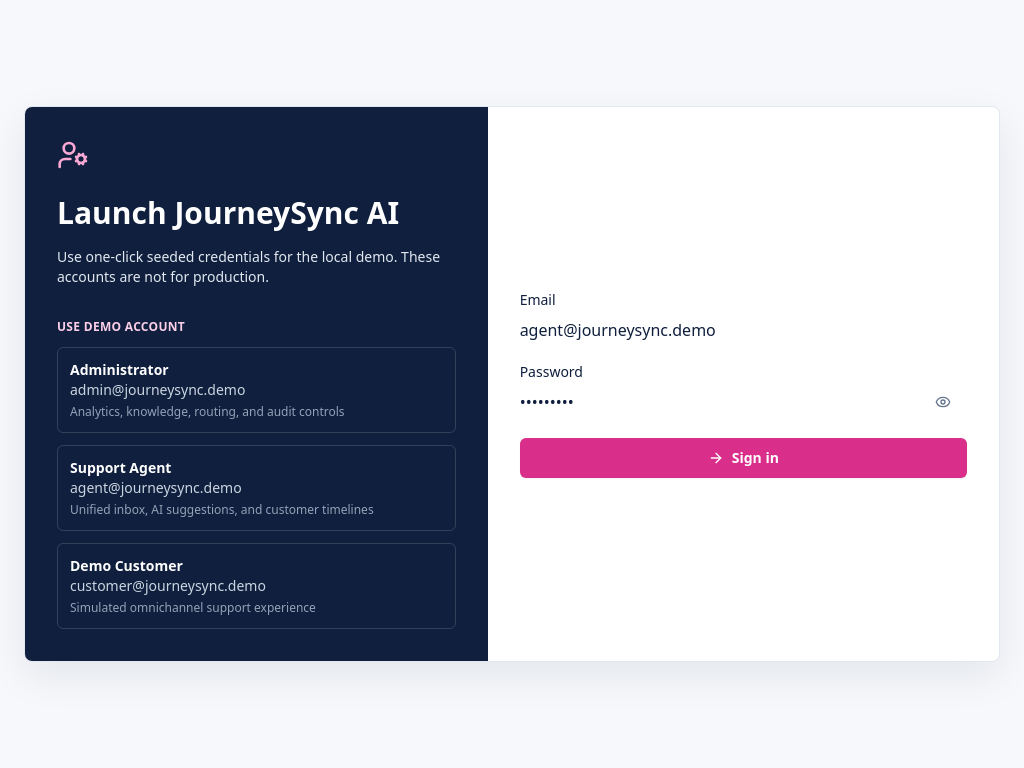
frontend smoke › autofills credentials from a role card
Click the text "Administrator": x=119, y=370 70,360 -> 169,379
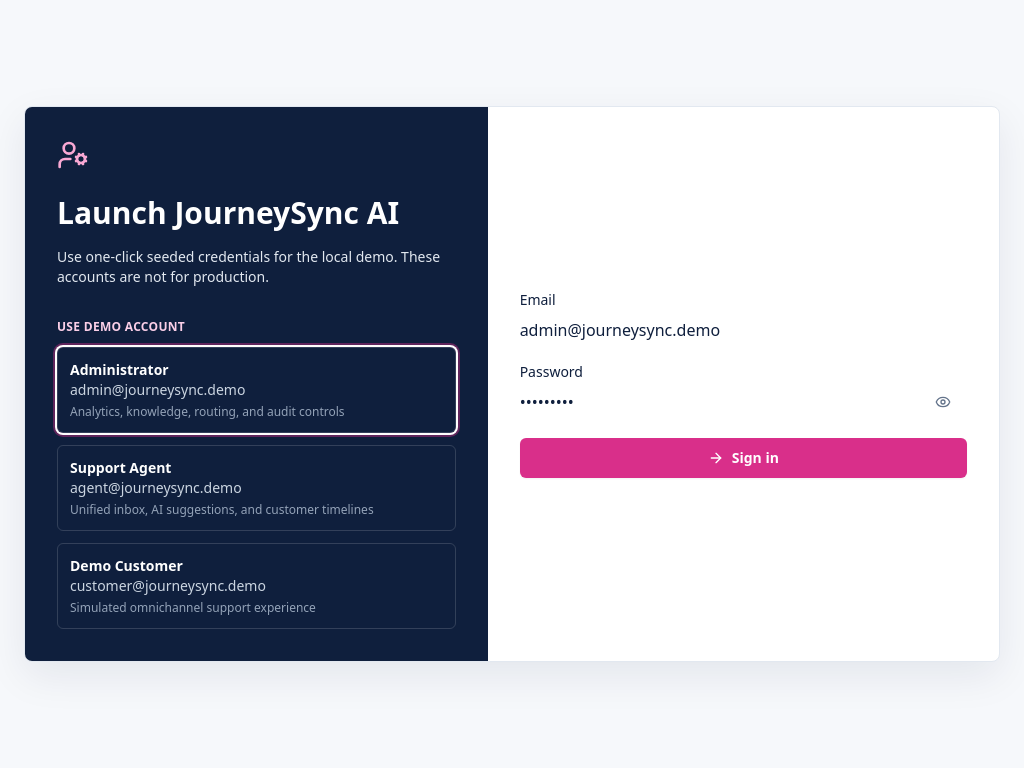
Expected: the password field labelled "Password" holds "Admin123!", 520,390 -> 795,414
Expected: the field labelled "Email" holds "admin@journeysync.demo", 520,318 -> 967,342
